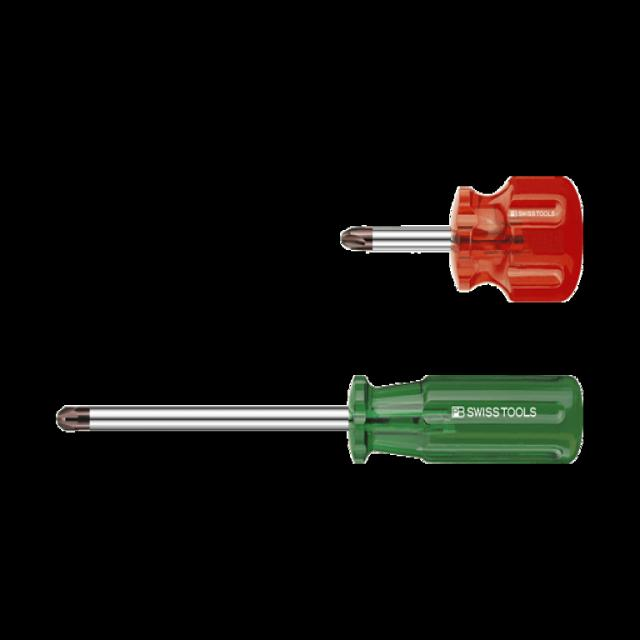Screwdriver: (56, 377, 582, 463), (340, 176, 582, 302)
